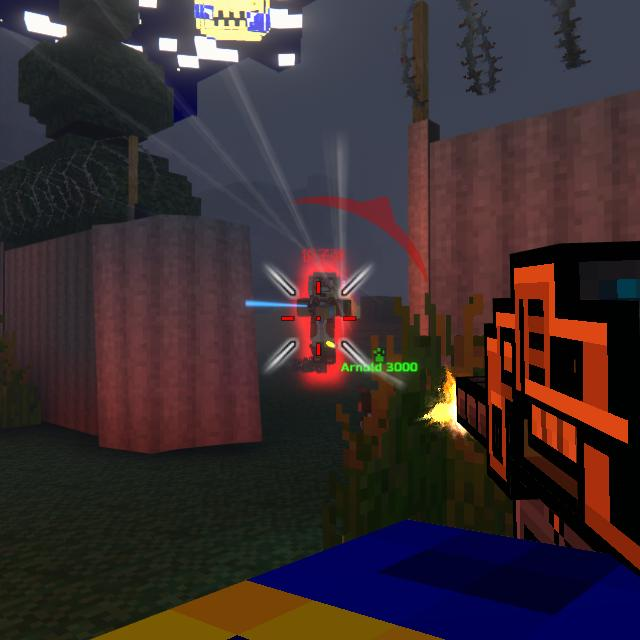Enemy: (297, 272, 351, 365)
